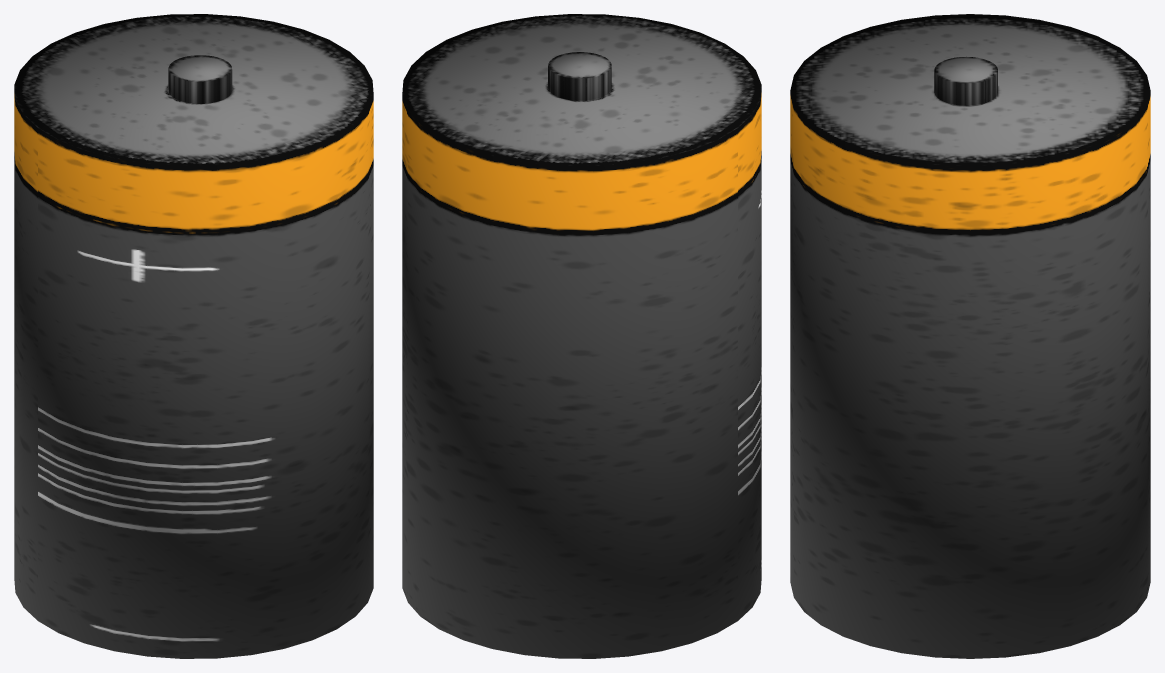
Rendered from battery.obj.
3 views of the same model, side by side, from view 1: azimuth 30°, elevation 25°; view 2: azimuth 150°, elevation 25°; view 3: azimuth 270°, elevation 25° (orthographic).
Parts seen in each view (by area): view 1: batery; view 2: batery; view 3: batery.
Boxes of the visible parts, x1,y1,x2,y2 form: batery: (14,14,373,658); batery: (402,14,761,658); batery: (790,14,1150,658).
Size of the model in its own units: 0.1908 by 0.3008 by 0.1908.
